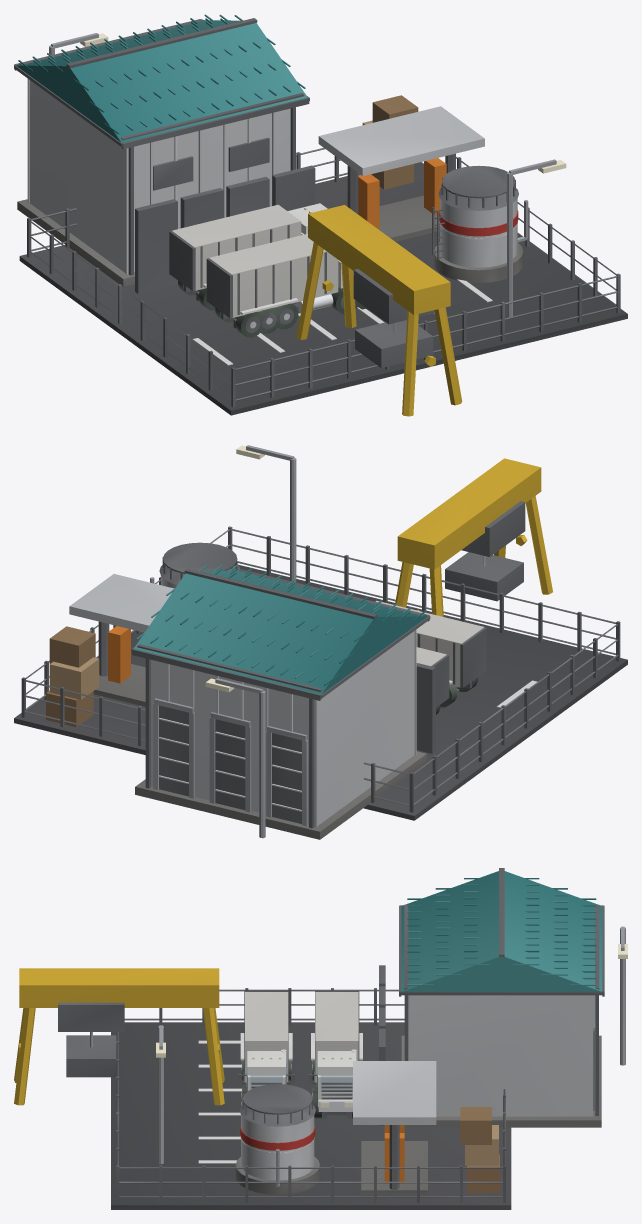
The model's file is Fleet_P3.fbx.
3 renders of one model, top to bottom at view 1: azimuth 30°, elevation 25°; view 2: azimuth 150°, elevation 25°; view 3: azimuth 270°, elevation 25°, orthographic. The views are drawn at different scales.
Parts seen in each view (by area): view 1: Fleet.Garage, Fleet.Yard, Fleet.WashGantry, Fleet.FuelIsland, Fleet.Parked0, Fleet.Fence, Fleet.FuelTank, Fleet.Doors, Fleet.Parked1, Fleet.Crates, Fleet.Lamp1, Fleet.Bays; view 2: Fleet.Garage, Fleet.Yard, Fleet.WashGantry, Fleet.Fence, Fleet.FuelIsland, Fleet.Crates, Fleet.Parked0, Fleet.FuelTank, Fleet.Doors, Fleet.Lamp0, Fleet.Lamp1, Fleet.Parked1; view 3: Fleet.Garage, Fleet.Yard, Fleet.WashGantry, Fleet.FuelIsland, Fleet.FuelTank, Fleet.Fence, Fleet.Parked1, Fleet.Parked0, Fleet.Crates, Fleet.Lamp1, Fleet.Lamp0, Fleet.Bays (+1 smaller).
Boxes of the visible parts, x1=… form: Fleet.Garage: x1=14, y1=14, x2=309, y2=286; Fleet.Yard: x1=19, y1=162, x2=627, y2=415; Fleet.WashGantry: x1=296, y1=205, x2=462, y2=416; Fleet.FuelIsland: x1=318, y1=106, x2=484, y2=241; Fleet.Parked0: x1=206, y1=234, x2=367, y2=337; Fleet.Fence: x1=27, y1=147, x2=620, y2=407; Fleet.FuelTank: x1=432, y1=165, x2=528, y2=282; Fleet.Doors: x1=135, y1=165, x2=315, y2=294; Fleet.Parked1: x1=169, y1=203, x2=327, y2=310; Fleet.Crates: x1=362, y1=95, x2=418, y2=189; Fleet.Lamp1: x1=507, y1=159, x2=566, y2=317; Fleet.Bays: x1=193, y1=279, x2=492, y2=365; Fleet.Garage: x1=131, y1=565, x2=430, y2=839; Fleet.Yard: x1=14, y1=564, x2=627, y2=820; Fleet.WashGantry: x1=395, y1=458, x2=552, y2=616; Fleet.Fence: x1=21, y1=526, x2=620, y2=812; Fleet.FuelIsland: x1=69, y1=574, x2=174, y2=706; Fleet.Crates: x1=46, y1=626, x2=99, y2=727; Fleet.Parked0: x1=375, y1=600, x2=486, y2=707; Fleet.FuelTank: x1=150, y1=542, x2=240, y2=588; Fleet.Doors: x1=416, y1=663, x2=435, y2=753; Fleet.Lamp0: x1=205, y1=678, x2=265, y2=838; Fleet.Lamp1: x1=236, y1=445, x2=296, y2=582; Fleet.Parked1: x1=416, y1=647, x2=449, y2=714; Fleet.Garage: x1=399, y1=868, x2=604, y2=1127; Fleet.Yard: x1=111, y1=1022, x2=511, y2=1209; Fleet.WashGantry: x1=14, y1=968, x2=224, y2=1105; Fleet.FuelIsland: x1=353, y1=1061, x2=436, y2=1194; Fleet.FuelTank: x1=235, y1=1084, x2=319, y2=1194; Fleet.Fence: x1=116, y1=988, x2=505, y2=1202; Fleet.Parked1: x1=308, y1=991, x2=362, y2=1118; Fleet.Parked0: x1=238, y1=991, x2=294, y2=1105; Fleet.Crates: x1=460, y1=1107, x2=499, y2=1193; Fleet.Lamp1: x1=156, y1=1025, x2=165, y2=1164; Fleet.Lamp0: x1=618, y1=926, x2=627, y2=1065; Fleet.Bays: x1=198, y1=1040, x2=241, y2=1163.
Size of the model in its own units: 2600 by 1183 by 3682.
